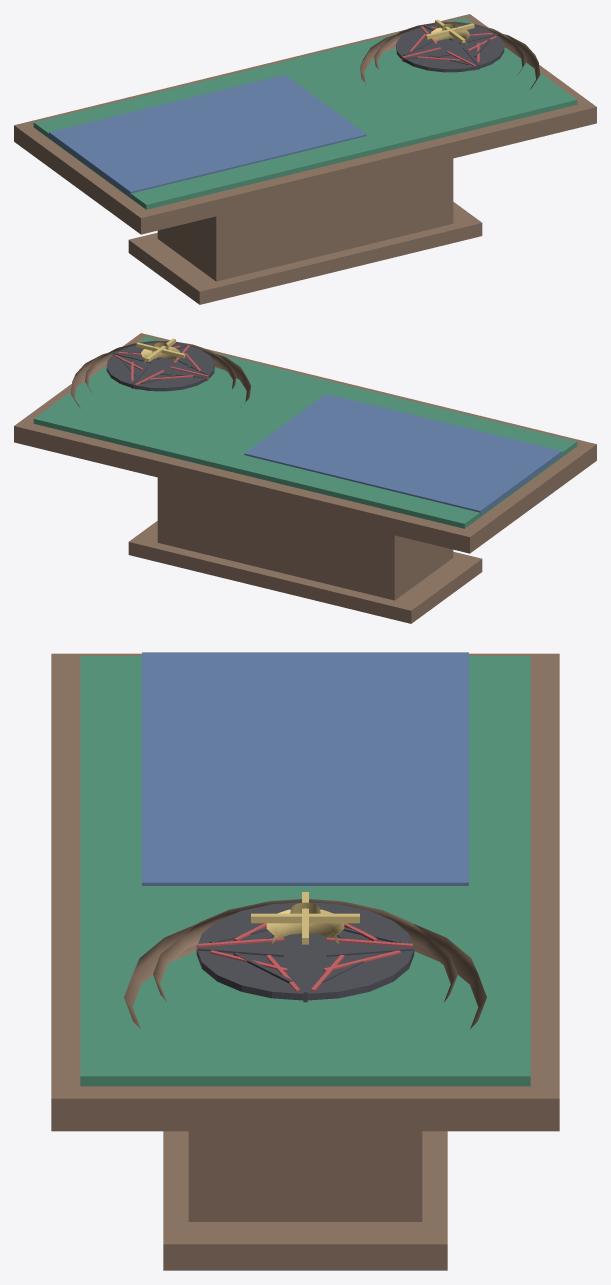
The model's file is casRoulette.glb.
The picture shows the model from 3 angles, top to bottom: view 1: azimuth 30°, elevation 25°; view 2: azimuth 150°, elevation 25°; view 3: azimuth 270°, elevation 25°; orthographic projection. The views are drawn at different scales.
Visible parts, largest first — view 1: roulette-table, wheel (×4); view 2: roulette-table, wheel (×4); view 3: roulette-table, wheel (×4).
Part boxes in pixels (bbox=[...]): roulette-table: bbox=[14, 14, 596, 304]; wheel (×4): bbox=[374, 19, 525, 75]; roulette-table: bbox=[14, 333, 596, 623]; wheel (×4): bbox=[85, 338, 236, 394]; roulette-table: bbox=[51, 652, 559, 1270]; wheel (×4): bbox=[153, 892, 457, 1002].
Bounding box in the file's own units: 2.9 × 1.11 × 1.4.
